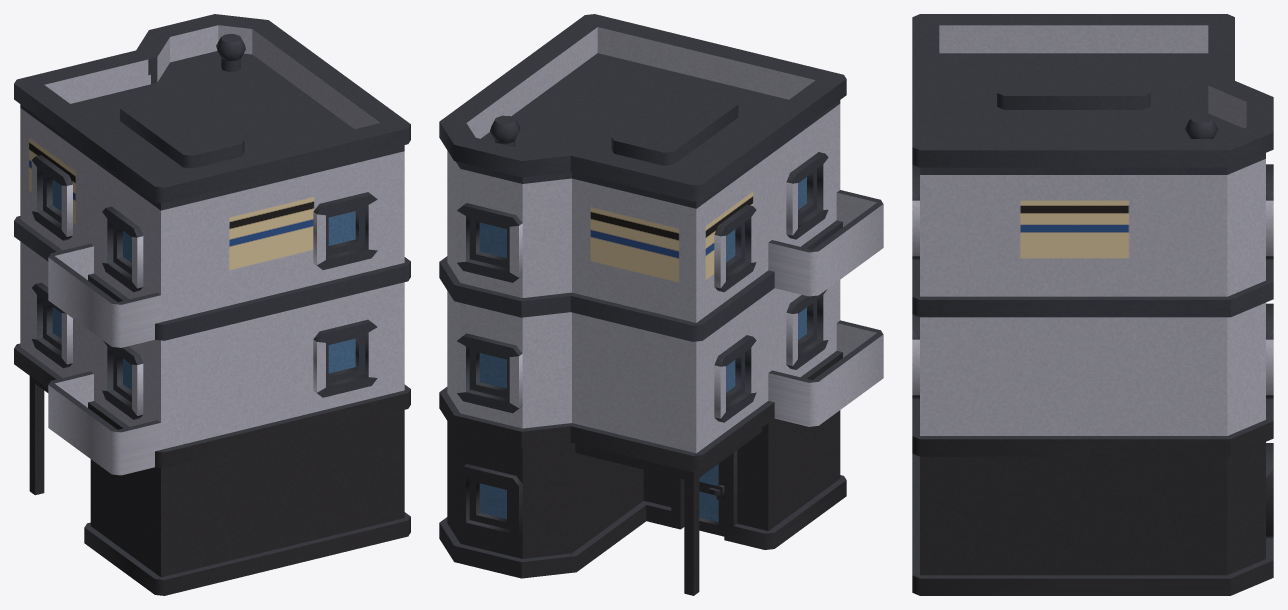
The model's file is building-b-white.glb.
The picture shows the model from 3 angles, left to right: view 1: azimuth 30°, elevation 25°; view 2: azimuth 150°, elevation 25°; view 3: azimuth 270°, elevation 25°; orthographic projection. The views are drawn at different scales.
Parts seen in each view (by area): view 1: building-b-white; view 2: building-b-white; view 3: building-b-white.
Boxes of the visible parts, bbox=[...] form: building-b-white: bbox=[14, 14, 410, 595]; building-b-white: bbox=[439, 14, 883, 595]; building-b-white: bbox=[912, 14, 1273, 595].
Bounding box in the file's own units: 0.97 × 1.29 × 0.94.
1 material, 1 textured.
